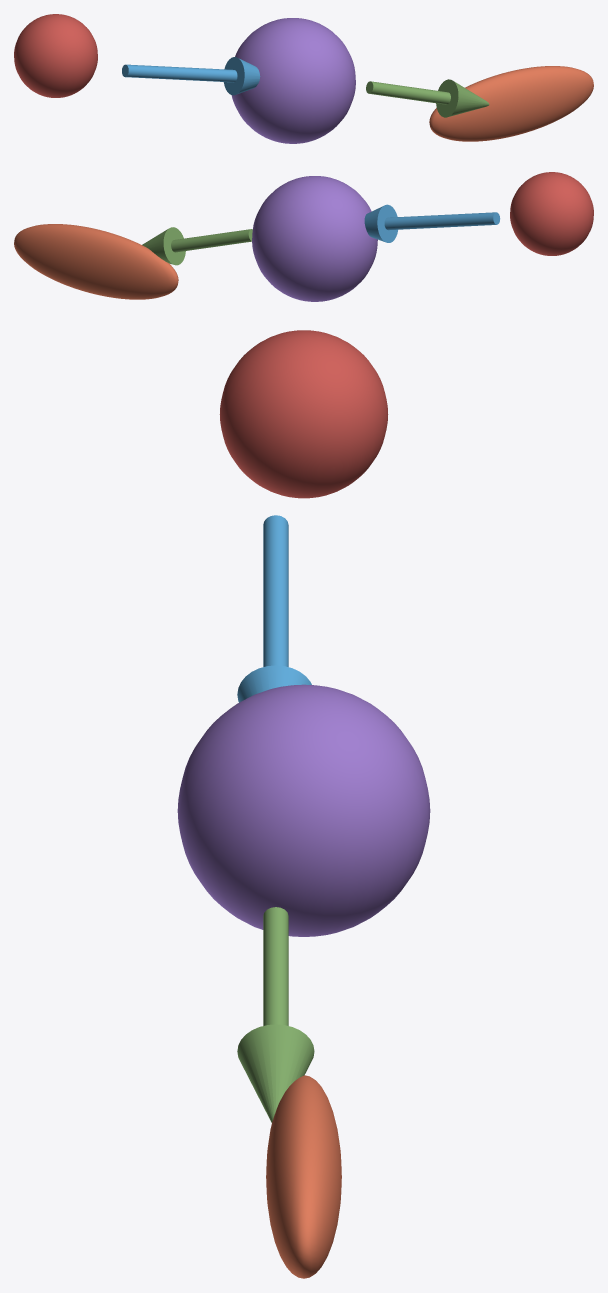
File: biology-neuroscience-reflex-arc.glb
3 views of the same model, one above another, from view 1: azimuth 30°, elevation 25°; view 2: azimuth 150°, elevation 25°; view 3: azimuth 270°, elevation 25° (orthographic). The views are drawn at different scales.
Parts seen in each view (by area): view 1: spinal-cord-relay, muscle-response, stimulus-sensor, sensory-path-shaft, motor-path-head, motor-path-shaft, sensory-path-head; view 2: spinal-cord-relay, muscle-response, stimulus-sensor, sensory-path-shaft, motor-path-shaft, motor-path-head, sensory-path-head; view 3: spinal-cord-relay, stimulus-sensor, muscle-response, motor-path-head, sensory-path-shaft, motor-path-shaft, sensory-path-head.
Boxes of the visible parts, x1=… form: spinal-cord-relay: x1=231, y1=18, x2=355, y2=143; muscle-response: x1=429, y1=66, x2=593, y2=141; stimulus-sensor: x1=14, y1=14, x2=97, y2=97; sensory-path-shaft: x1=122, y1=64, x2=237, y2=82; motor-path-head: x1=436, y1=79, x2=489, y2=117; motor-path-shaft: x1=366, y1=81, x2=450, y2=104; sensory-path-head: x1=223, y1=57, x2=260, y2=95; spinal-cord-relay: x1=252, y1=176, x2=377, y2=301; muscle-response: x1=14, y1=224, x2=178, y2=299; stimulus-sensor: x1=510, y1=172, x2=593, y2=255; sensory-path-shaft: x1=384, y1=212, x2=500, y2=230; motor-path-shaft: x1=171, y1=229, x2=252, y2=252; motor-path-head: x1=142, y1=227, x2=185, y2=265; sensory-path-head: x1=364, y1=204, x2=397, y2=242; spinal-cord-relay: x1=177, y1=684, x2=430, y2=936; stimulus-sensor: x1=219, y1=330, x2=388, y2=498; muscle-response: x1=266, y1=1075, x2=341, y2=1278; motor-path-head: x1=237, y1=1024, x2=314, y2=1122; sensory-path-shaft: x1=263, y1=515, x2=288, y2=666; motor-path-shaft: x1=263, y1=907, x2=288, y2=1025; sensory-path-head: x1=237, y1=665, x2=311, y2=702.
Size of what is drawn, in the model's own units: 1.89 by 0.719 by 0.36.
